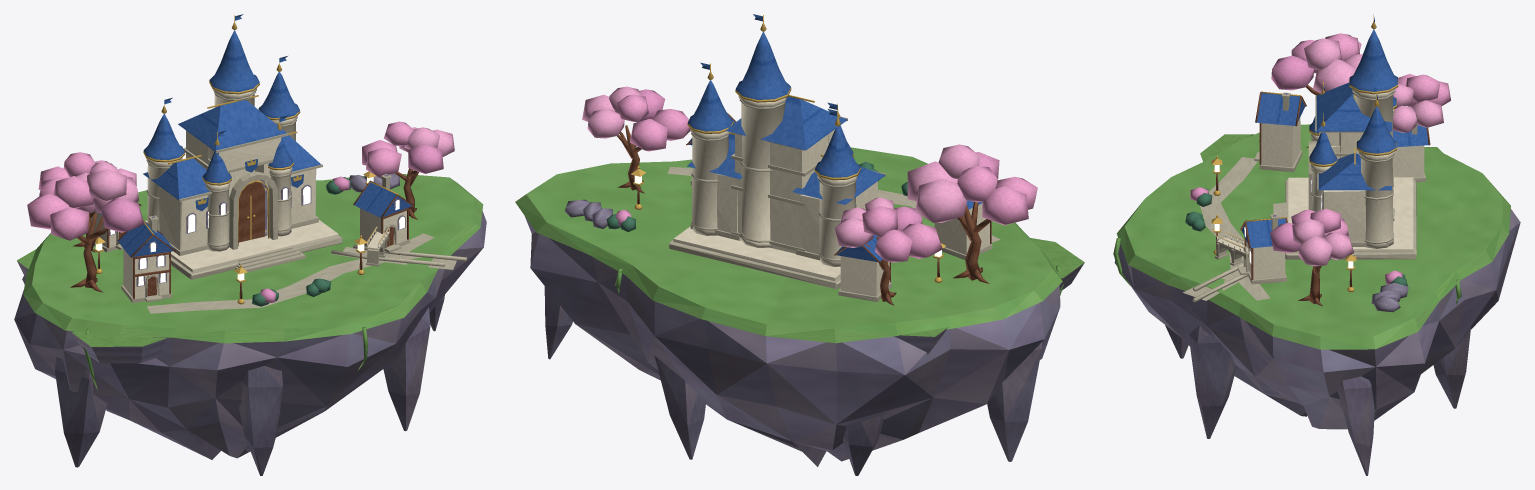
Rendered from royal-island-right-distant.glb.
The picture shows the model from 3 angles, left to right: view 1: azimuth 30°, elevation 25°; view 2: azimuth 150°, elevation 25°; view 3: azimuth 270°, elevation 25°; orthographic projection. The views are drawn at different scales.
Parts seen in each view (by area): view 1: royal-island-right; view 2: royal-island-right; view 3: royal-island-right.
Boxes of the visible parts, left/top/right/bottom form: royal-island-right: left=14, top=14, right=486, bottom=475; royal-island-right: left=515, top=14, right=1084, bottom=475; royal-island-right: left=1113, top=14, right=1520, bottom=475.
Bounding box in the file's own units: 17.51 × 14.97 × 13.4.
10 materials, 10 textured.
